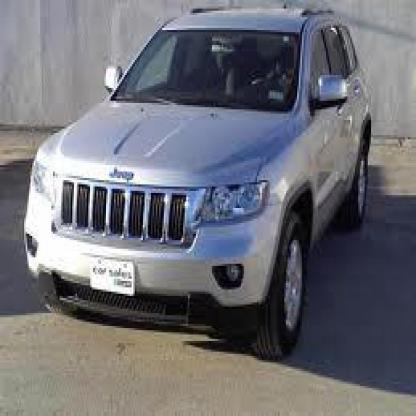Vehicle: (24, 8, 376, 368)
